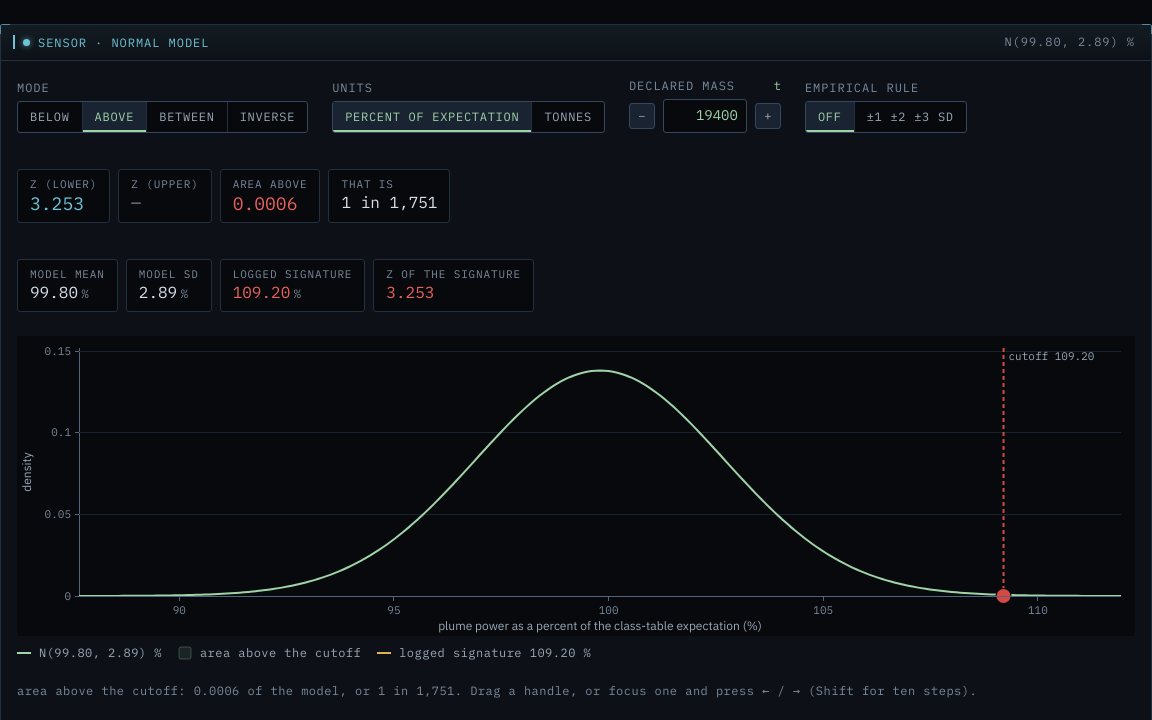
Test: <NormalExplorer> › re-expresses the axis in tonnes with linearTransformSummary and leaves z alone
The width and height of the screenshot is (1152, 720).
Step 1. Click the radio button labelled "tonnes" → (568, 116), box [532, 102, 604, 132]
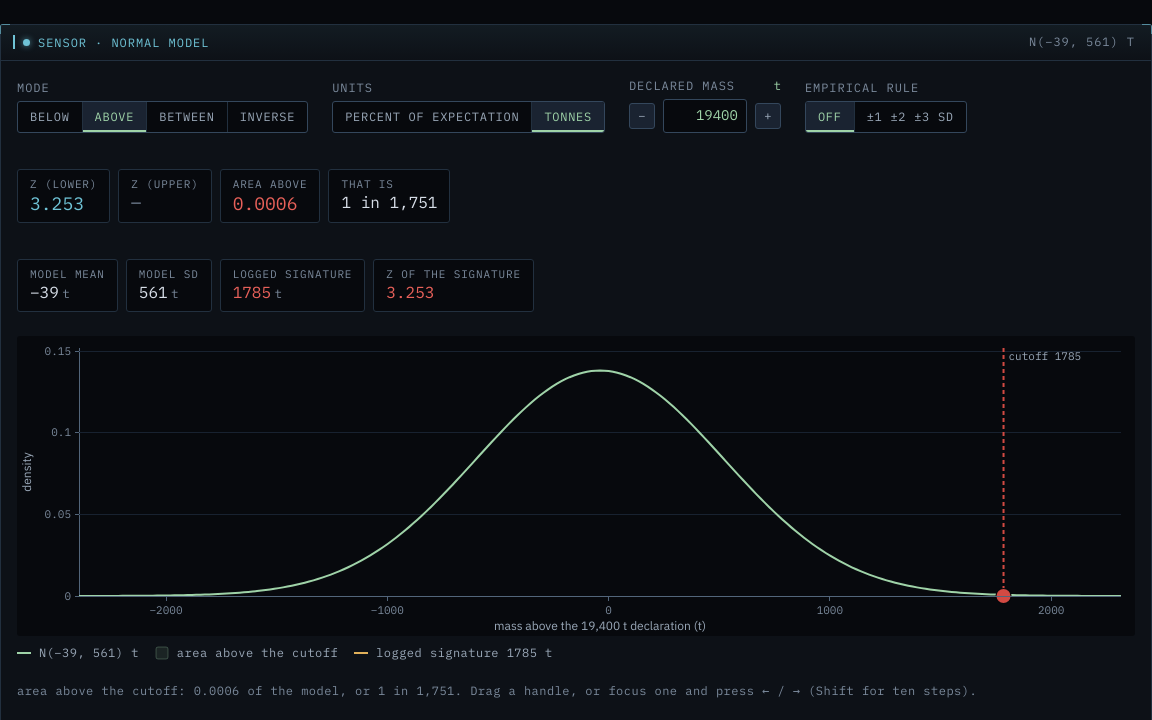
Now the element with class "dr-readout__value" shows "561", box [139, 282, 168, 302]
